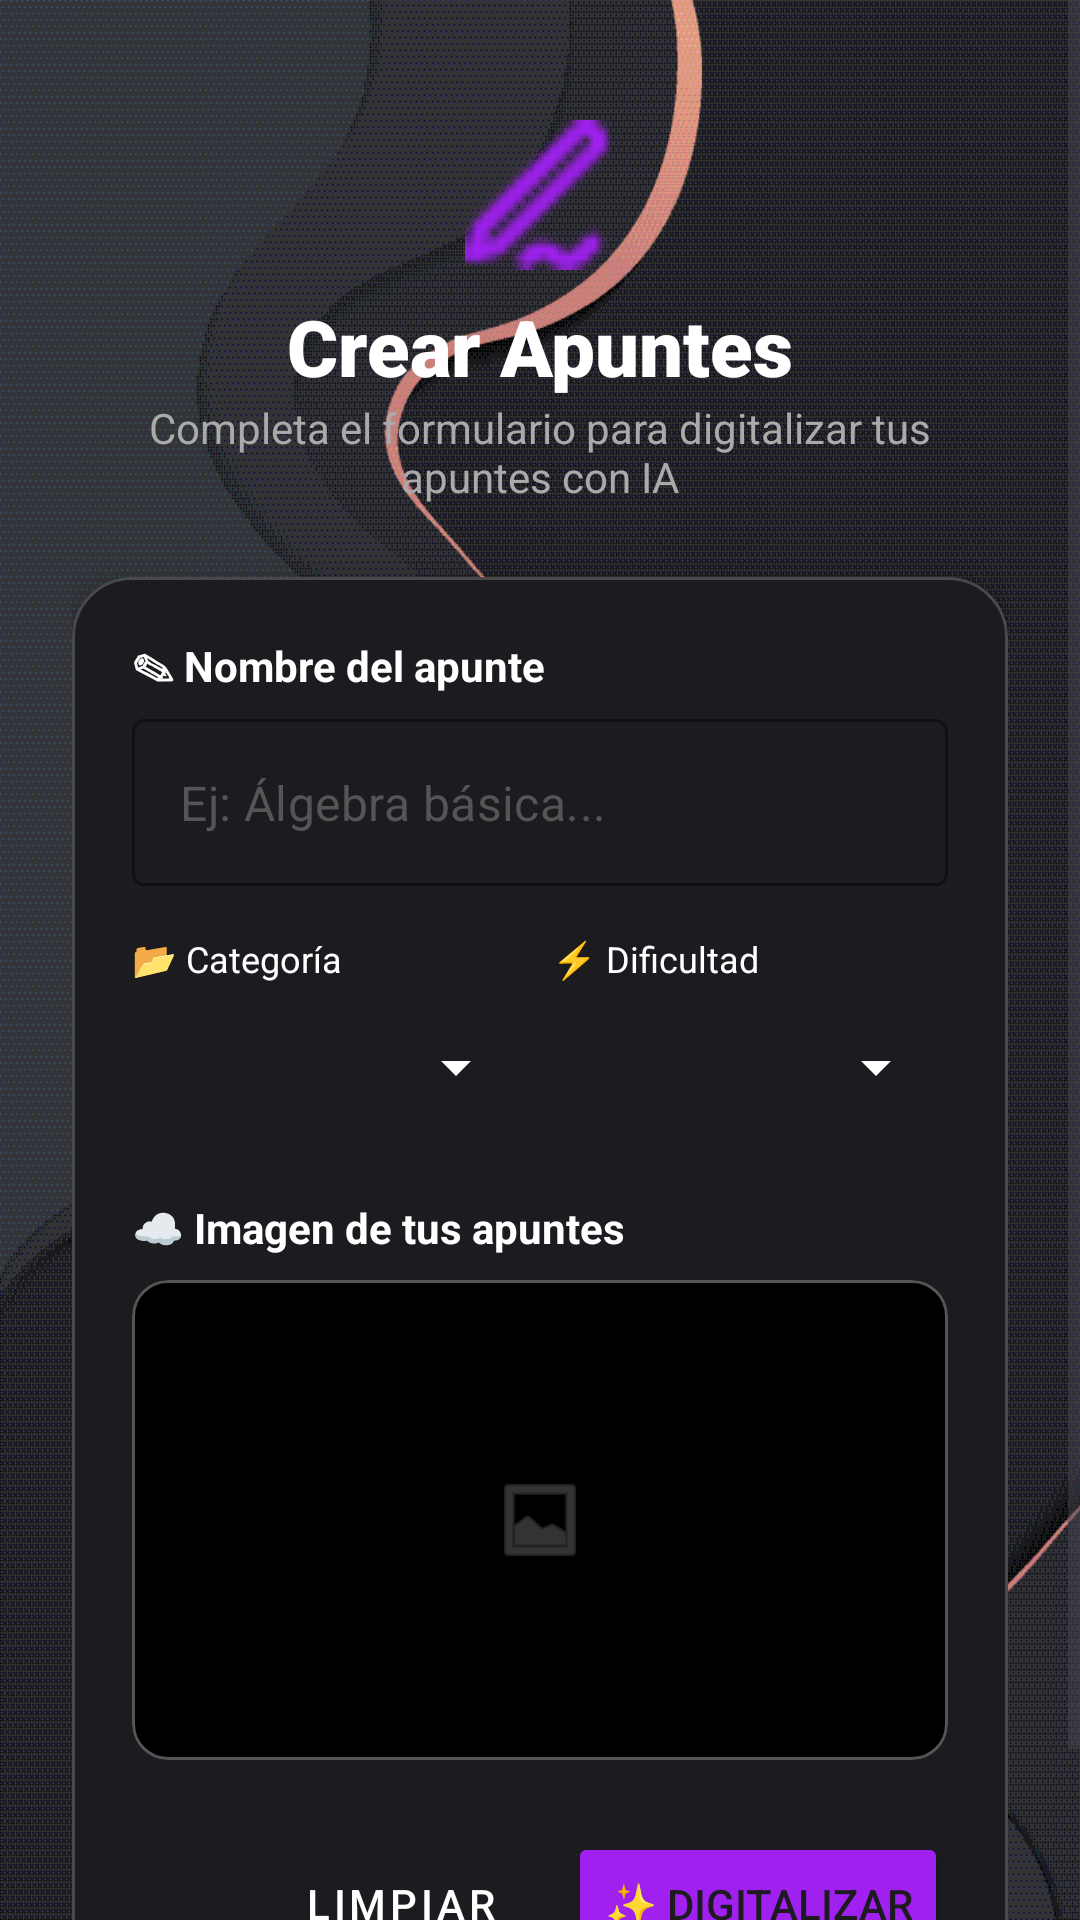

Screen size 1080px x 1920px. Icon name, then its center in pixels as point (x, y):
iconoapuntes: point (540, 195)
